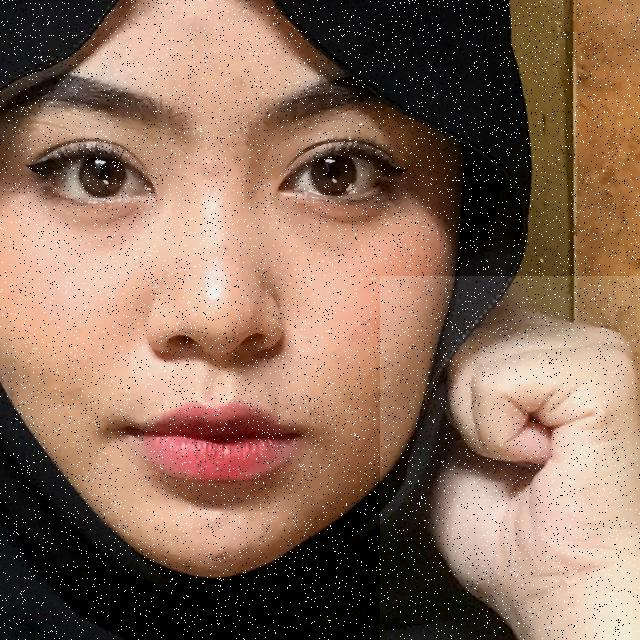ibu: (380, 276, 640, 640)
